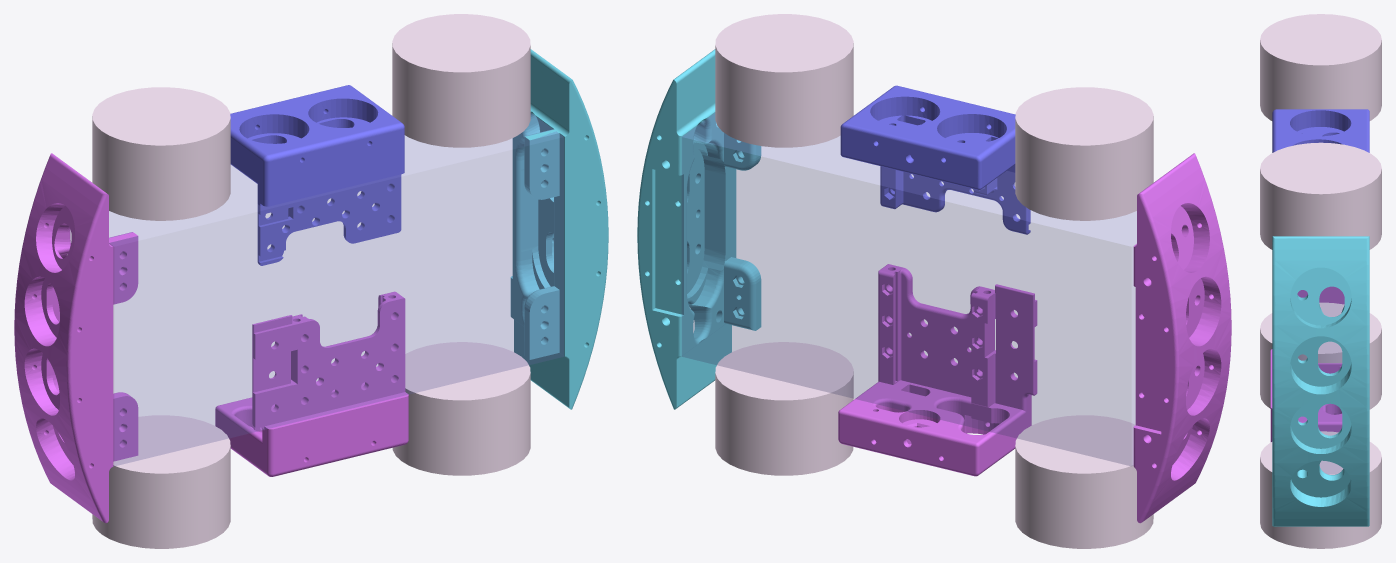
Rendered from roboteil.glb.
3 views of the same model, side by side, from view 1: azimuth 30°, elevation 25°; view 2: azimuth 150°, elevation 25°; view 3: azimuth 270°, elevation 25° (orthographic). The views are drawn at different scales.
Parts seen in each view (by area): view 1: Box, Body (×4), Cylinder (×4); view 2: Box, Body (×4), Cylinder (×4); view 3: Body (×4), Cylinder (×4), Box.
Part boxes in pixels (x1=…): Box: x1=70, y1=113, x2=563, y2=465; Body (×4): x1=14, y1=49, x2=608, y2=523; Cylinder (×4): x1=92, y1=14, x2=530, y2=548; Box: x1=682, y1=113, x2=1136, y2=465; Body (×4): x1=637, y1=49, x2=1231, y2=523; Cylinder (×4): x1=715, y1=14, x2=1153, y2=548; Body (×4): x1=1270, y1=109, x2=1369, y2=526; Cylinder (×4): x1=1260, y1=14, x2=1381, y2=548; Box: x1=1298, y1=287, x2=1344, y2=474.
Size of the model in its own units: 361 by 257 by 80.
